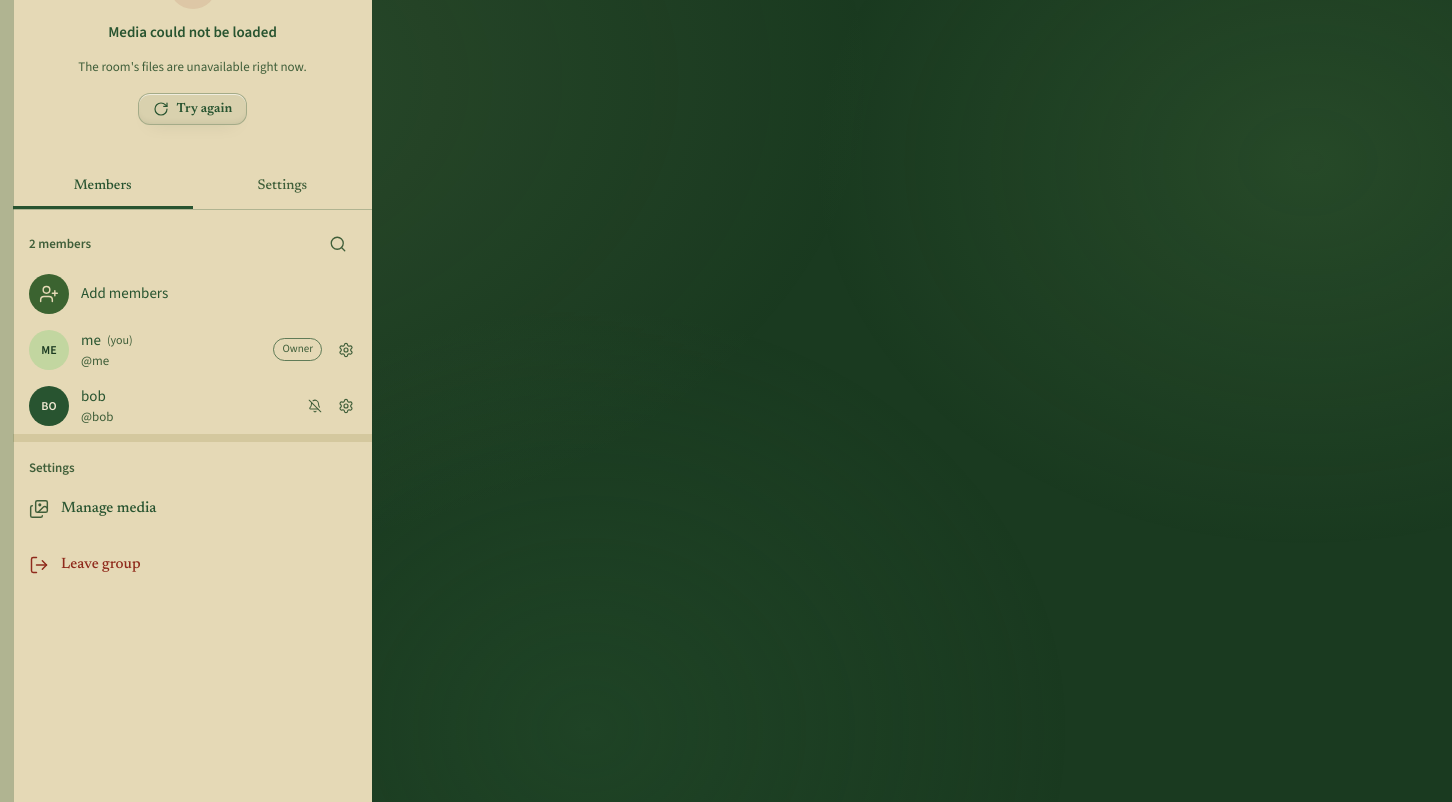
GroupInfoPanel › shows an admin only the management items the backend allows
(page scrolled)
Click the button named "Member options for bob" at {"x": 346, "y": 406}, box [328,388,364,424]
(page scrolled)
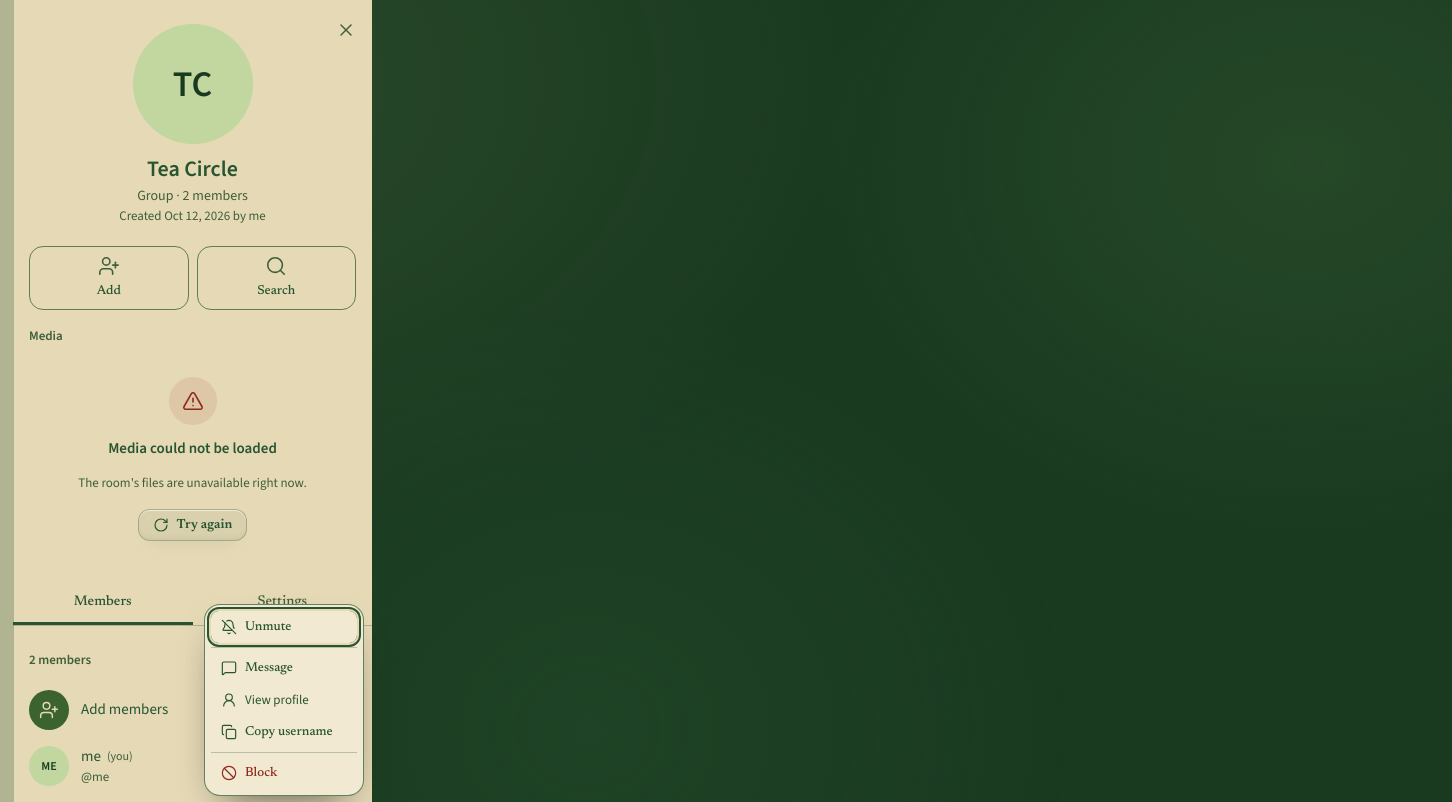
Expected: the button "Add" is shown, [29,246,188,310]
Expected: the menu item "Unmute" is shown, [211,611,357,643]
